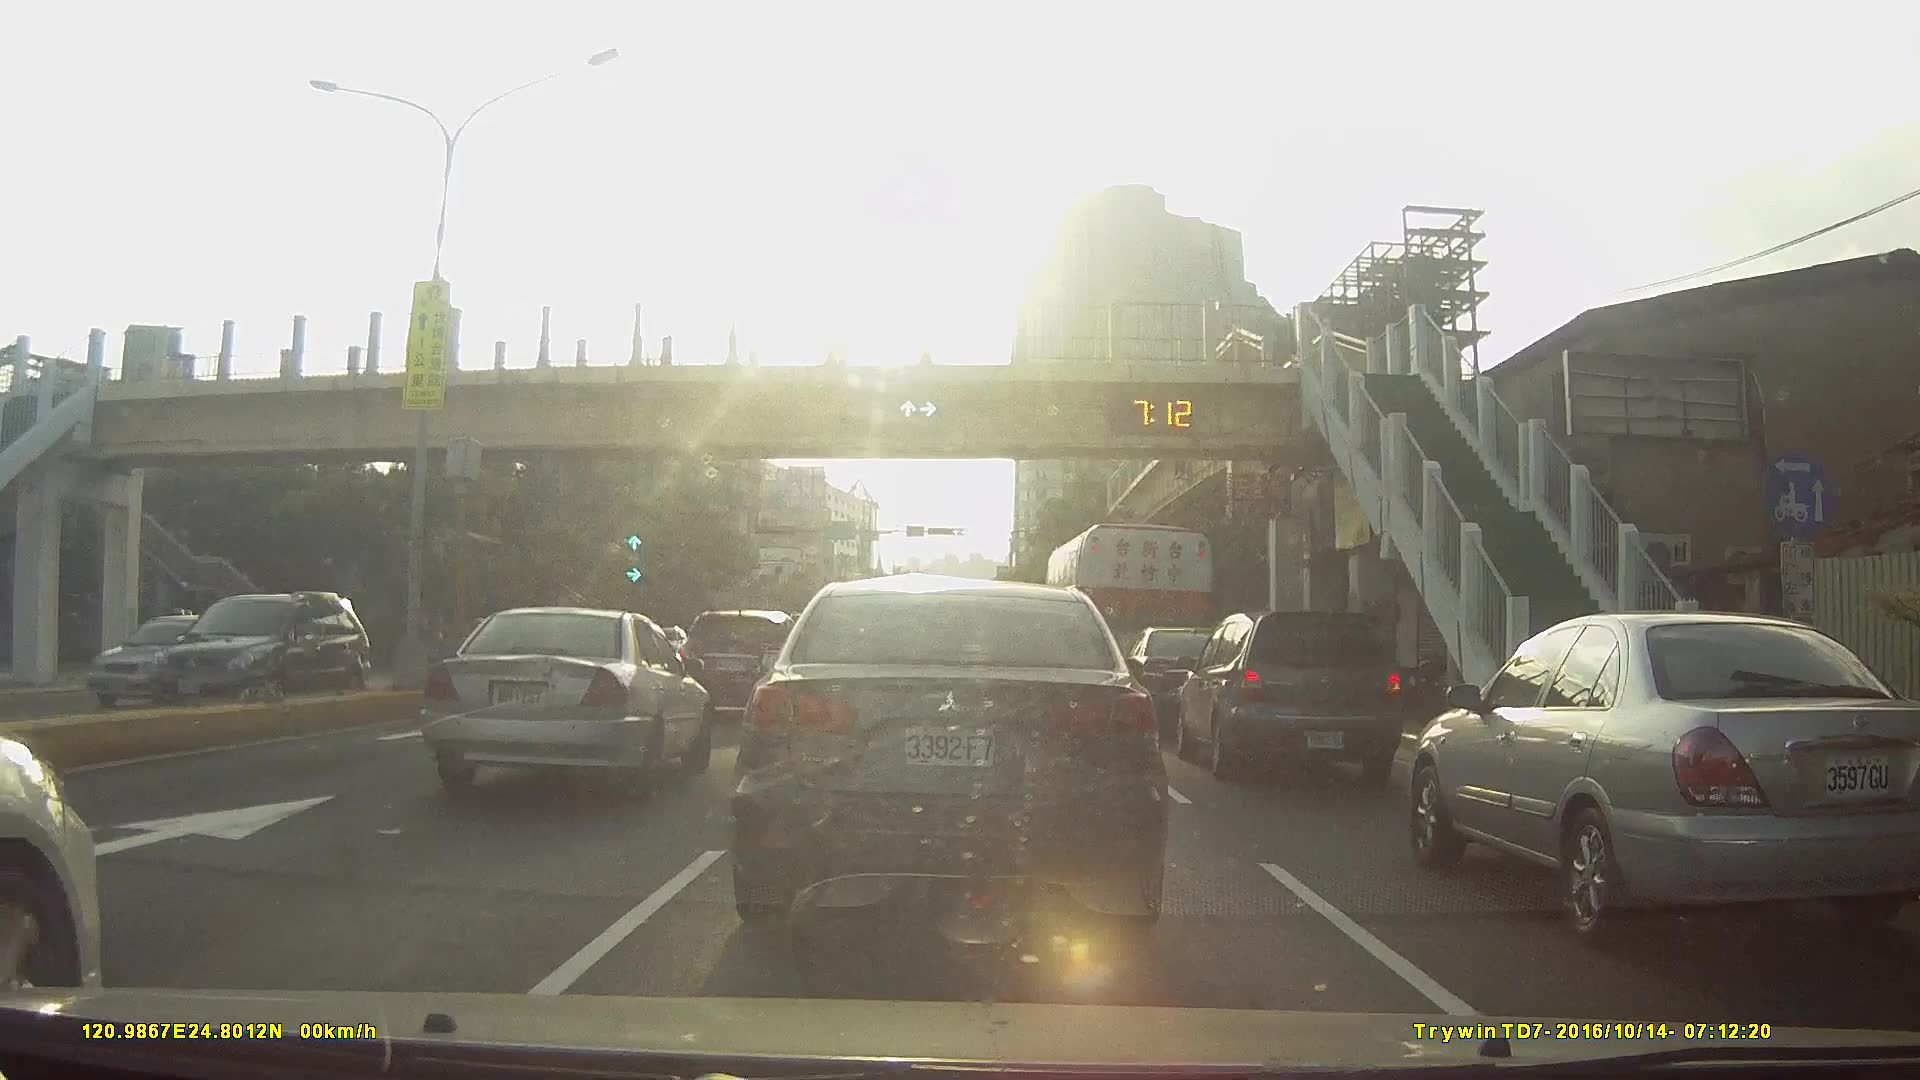vehicle: (1414, 607, 1920, 949), (727, 570, 1172, 949), (429, 604, 717, 787), (1179, 607, 1423, 785), (140, 582, 382, 711), (75, 615, 247, 709), (1125, 624, 1261, 732), (679, 603, 807, 712)
